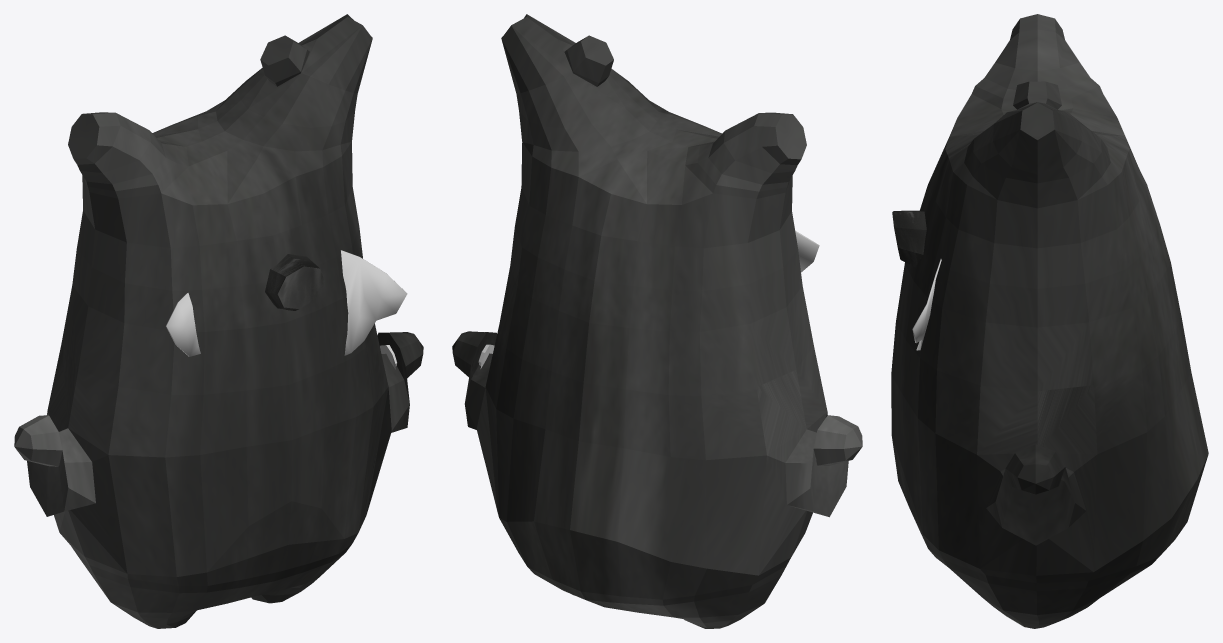
File: frame_0003.obj
The picture shows the model from 3 angles, left to right: view 1: azimuth 30°, elevation 25°; view 2: azimuth 150°, elevation 25°; view 3: azimuth 270°, elevation 25°; orthographic projection.
Parts seen in each view (by area): view 1: korok, leaf, nose; view 2: korok, leaf; view 3: korok, nose, leaf.
Part boxes in pixels (x1,y1,x2,y2): korok: (14, 14, 423, 628); leaf: (166, 250, 407, 356); nose: (265, 254, 324, 310); korok: (452, 14, 862, 628); leaf: (795, 230, 819, 272); korok: (891, 14, 1208, 628); nose: (892, 210, 926, 267); leaf: (912, 259, 941, 350).
Size of the model in its own units: 1.77 by 2.34 by 1.2.
